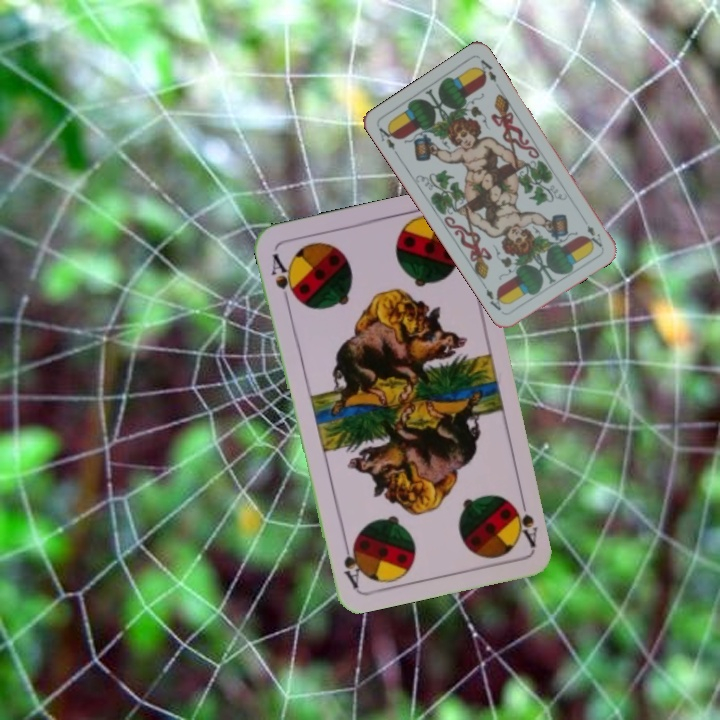EA: (374, 121, 401, 159), (578, 213, 605, 250)
SA: (505, 491, 540, 550), (267, 249, 299, 306)
